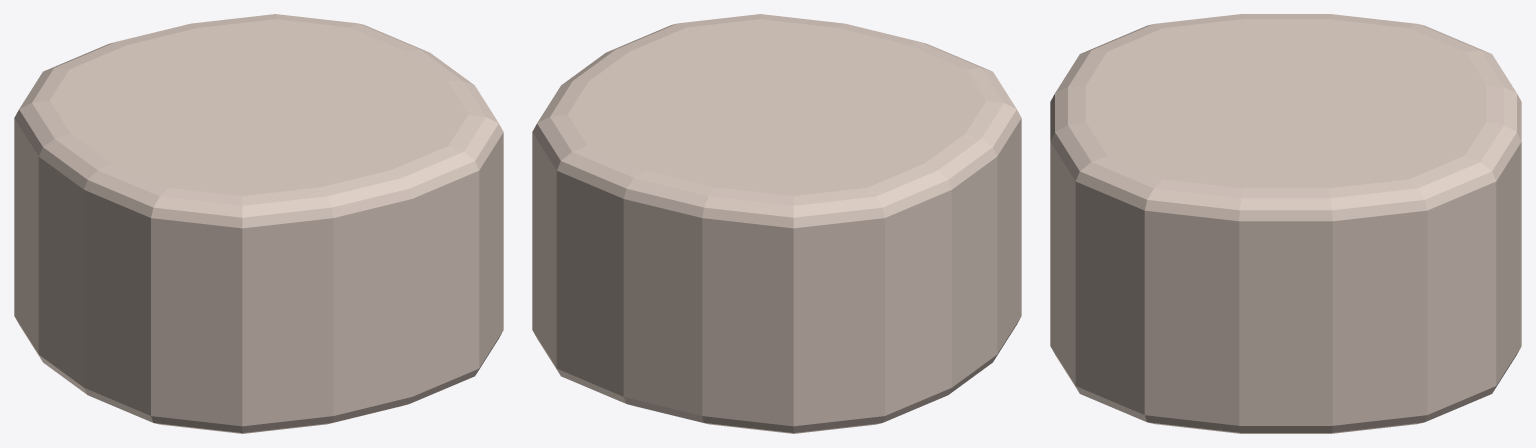
The model's file is stone7.fbx.
3 renders of one model, left to right at view 1: azimuth 30°, elevation 25°; view 2: azimuth 150°, elevation 25°; view 3: azimuth 270°, elevation 25°, orthographic. The views are drawn at different scales.
Parts seen in each view (by area): view 1: 立方体.004; view 2: 立方体.004; view 3: 立方体.004.
Boxes of the visible parts, x1=… form: 立方体.004: x1=14, y1=14, x2=503, y2=433; 立方体.004: x1=532, y1=14, x2=1021, y2=433; 立方体.004: x1=1050, y1=14, x2=1521, y2=433.
Bounding box in the file's own units: 80.65 × 45.41 × 80.65.
